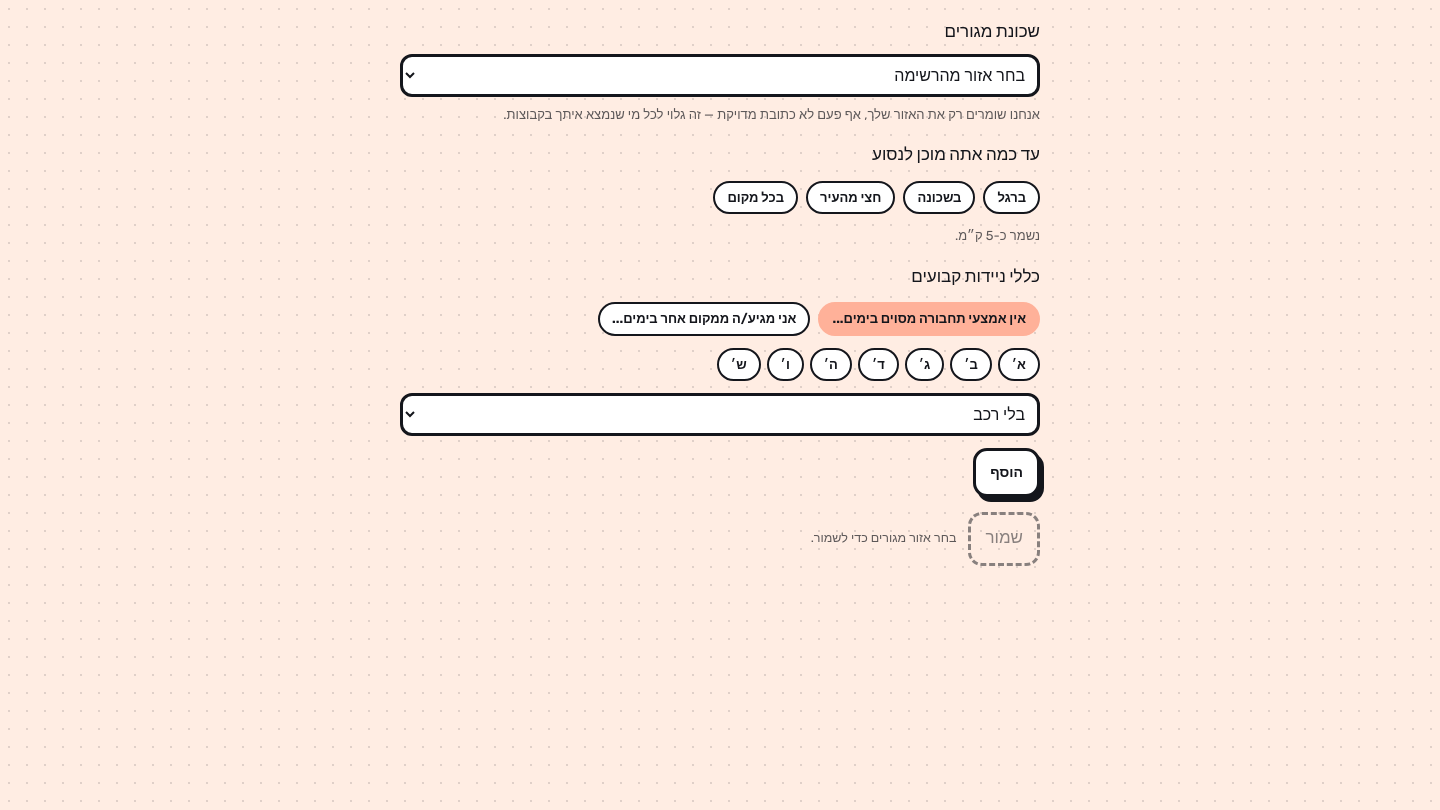
Test: adding a recurring mobility rule shows it in the list
Expected: the button "ברגל" is shown, [983,180,1040,214]
Click the button "ו׳" at (785, 364), box [767,348,804,381]
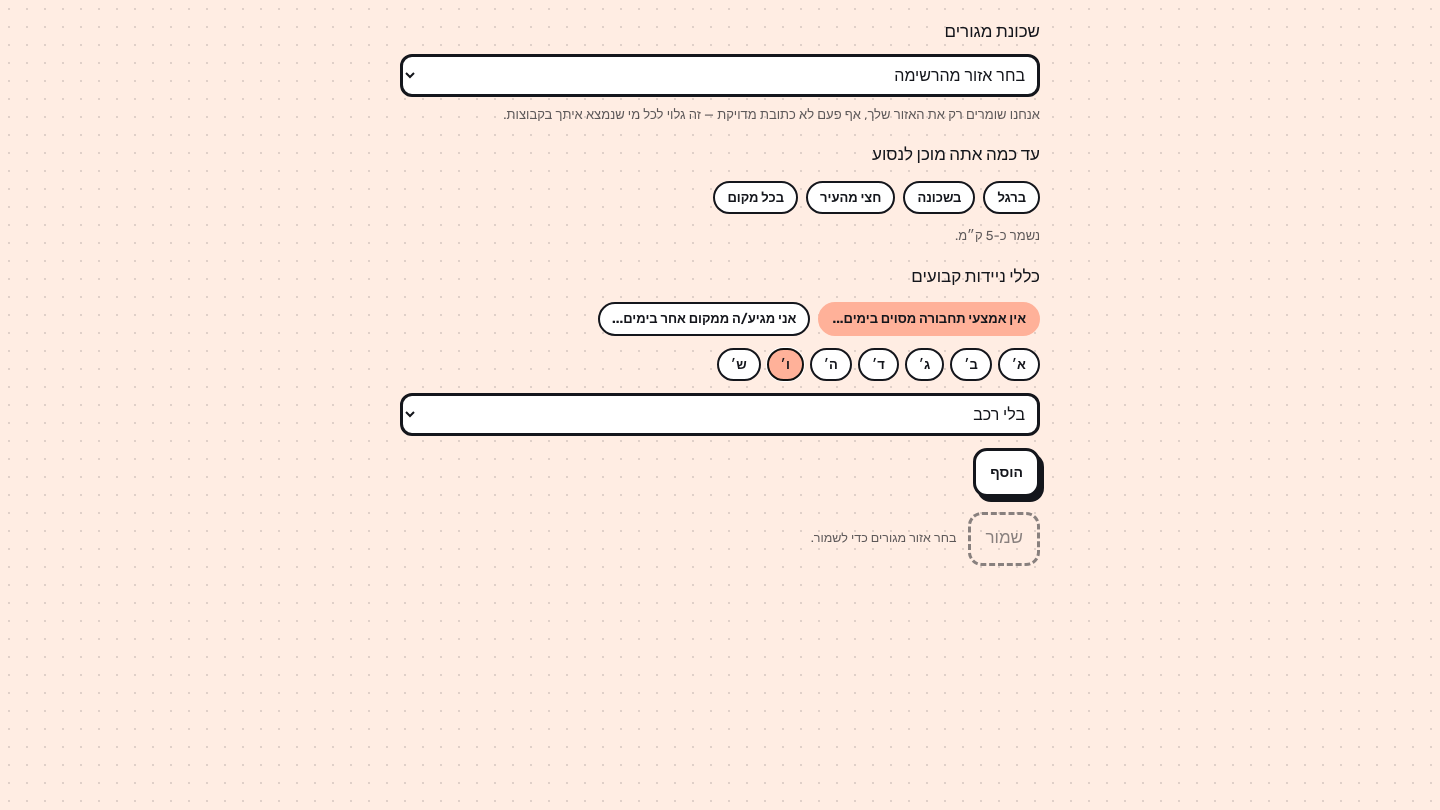
Click the button "הוסף" at (1007, 472), box [973,448,1040,497]
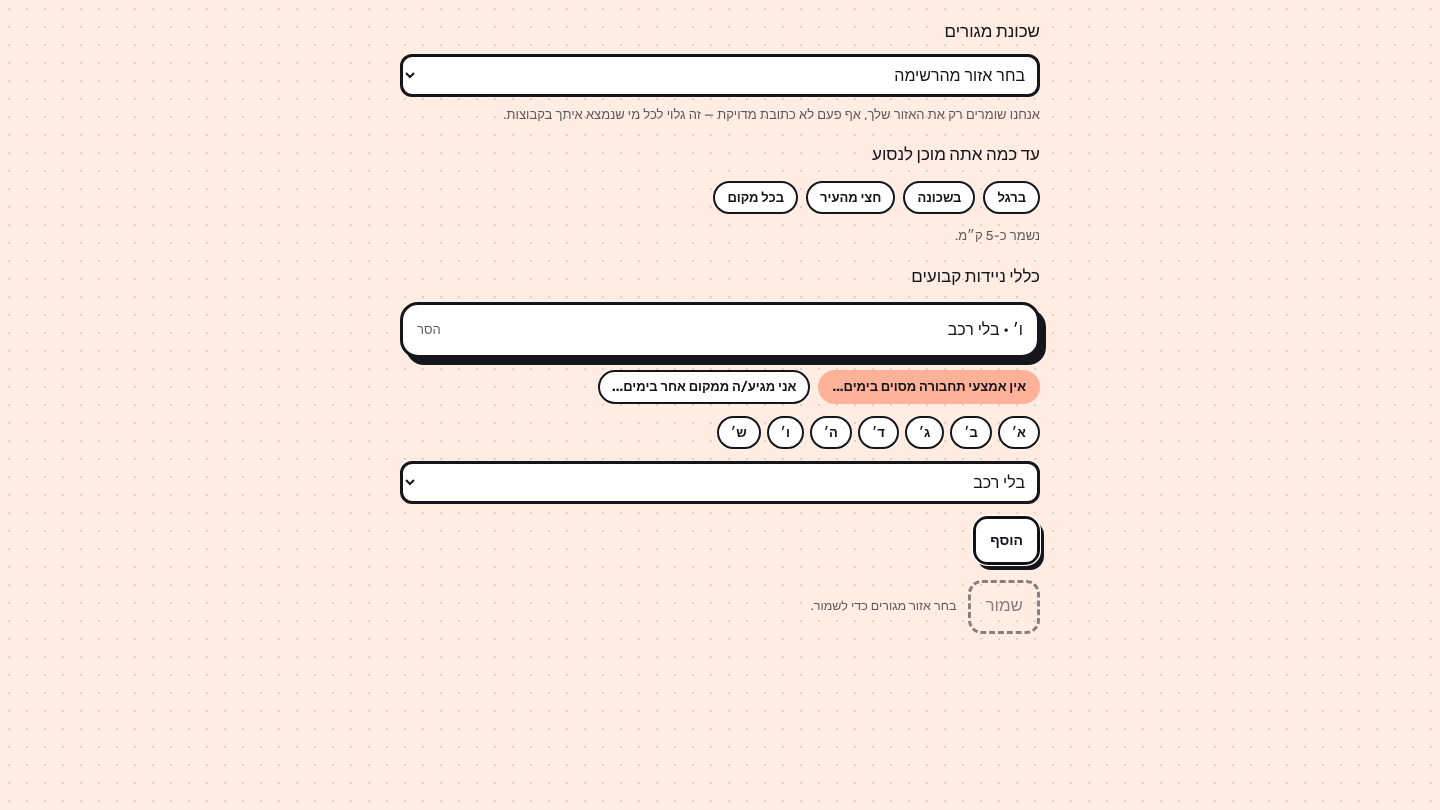
Result: the text "ו׳ · בלי רכב" is shown at [948,318,1023,342]
